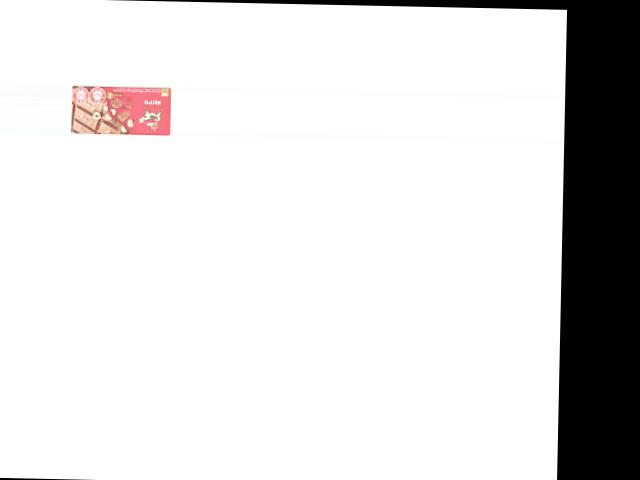chocolate: (70, 84, 171, 135)
